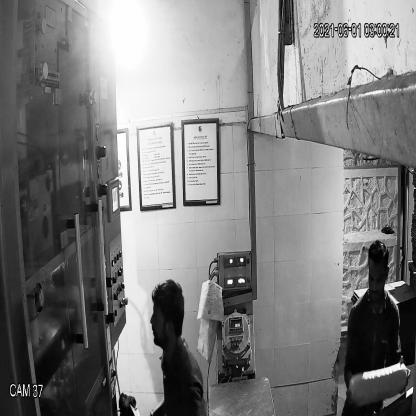no_goggles: (146, 306, 174, 329), (364, 267, 389, 289)
